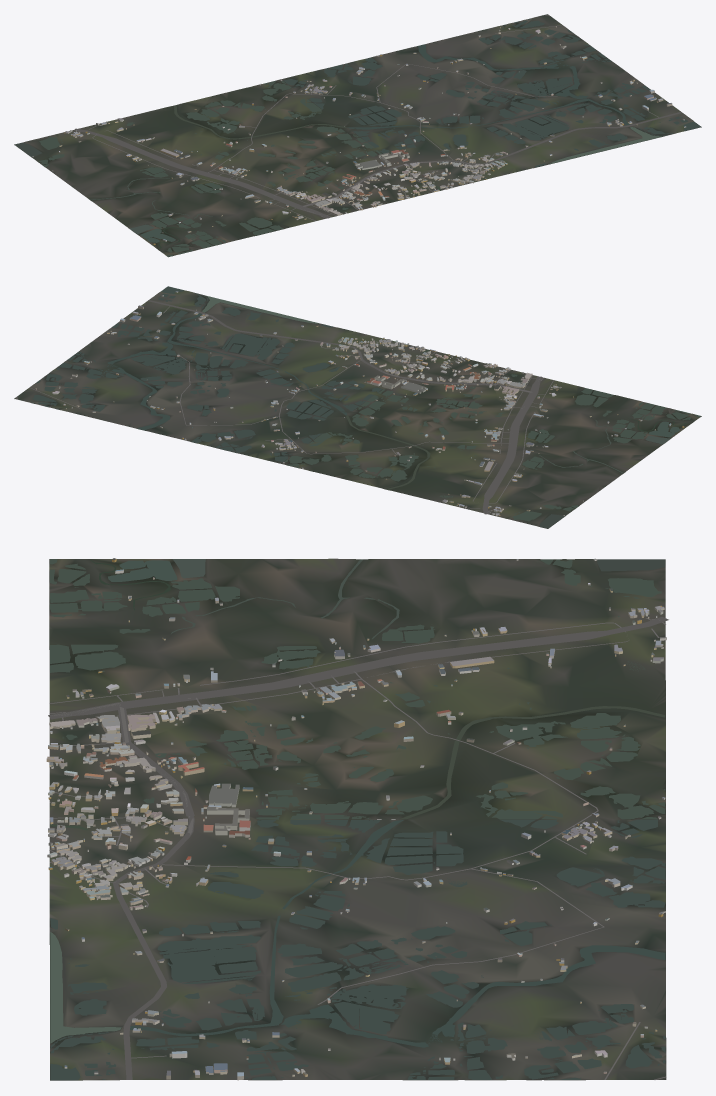
3 renders of one model, top to bottom at view 1: azimuth 30°, elevation 25°; view 2: azimuth 150°, elevation 25°; view 3: azimuth 270°, elevation 25°, orthographic. The views are drawn at different scales.
Parts seen in each view (by area): view 1: ground, water, buildings, roads; view 2: ground, water, buildings, roads; view 3: ground, water, buildings, roads.
Part boxes in pixels (bbox=[...]): ground: bbox=[14, 14, 701, 257]; water: bbox=[14, 18, 700, 256]; buildings: bbox=[32, 26, 685, 244]; roads: bbox=[74, 15, 682, 220]; ground: bbox=[14, 290, 701, 528]; water: bbox=[31, 286, 701, 528]; buildings: bbox=[35, 291, 684, 515]; roads: bbox=[16, 300, 553, 514]; ground: bbox=[49, 558, 666, 1080]; water: bbox=[50, 559, 665, 1080]; buildings: bbox=[46, 558, 666, 1080]; roads: bbox=[48, 617, 668, 1079].
Bounding box in the file's own units: 2803 × 17.28 × 1415.
